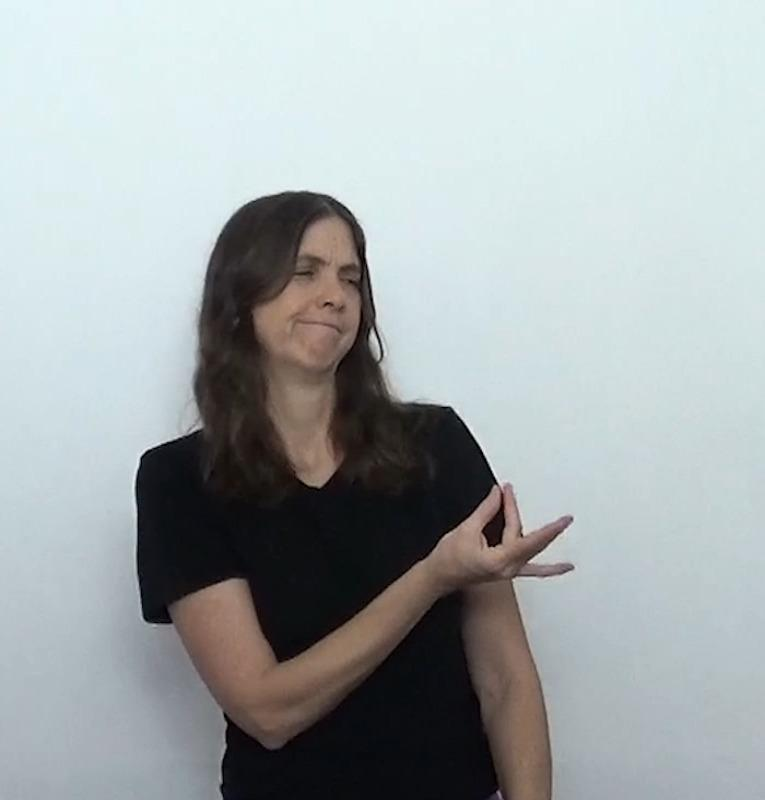Dolor: (68, 122, 669, 767)
